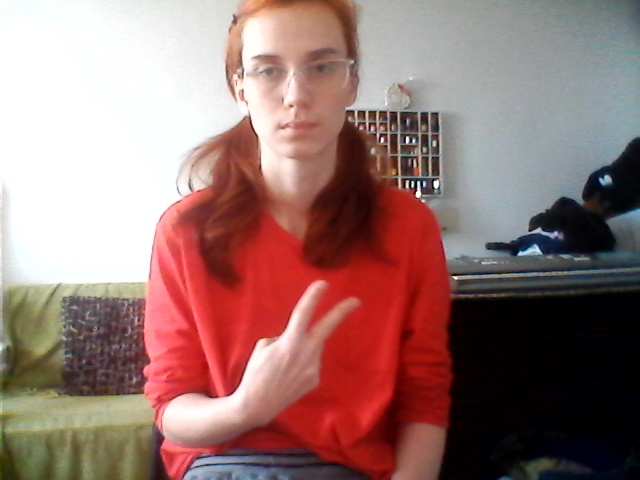v: (238, 275, 369, 412)
